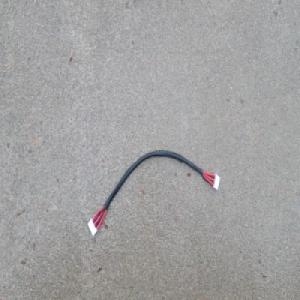Wire: (86, 148, 221, 238)
